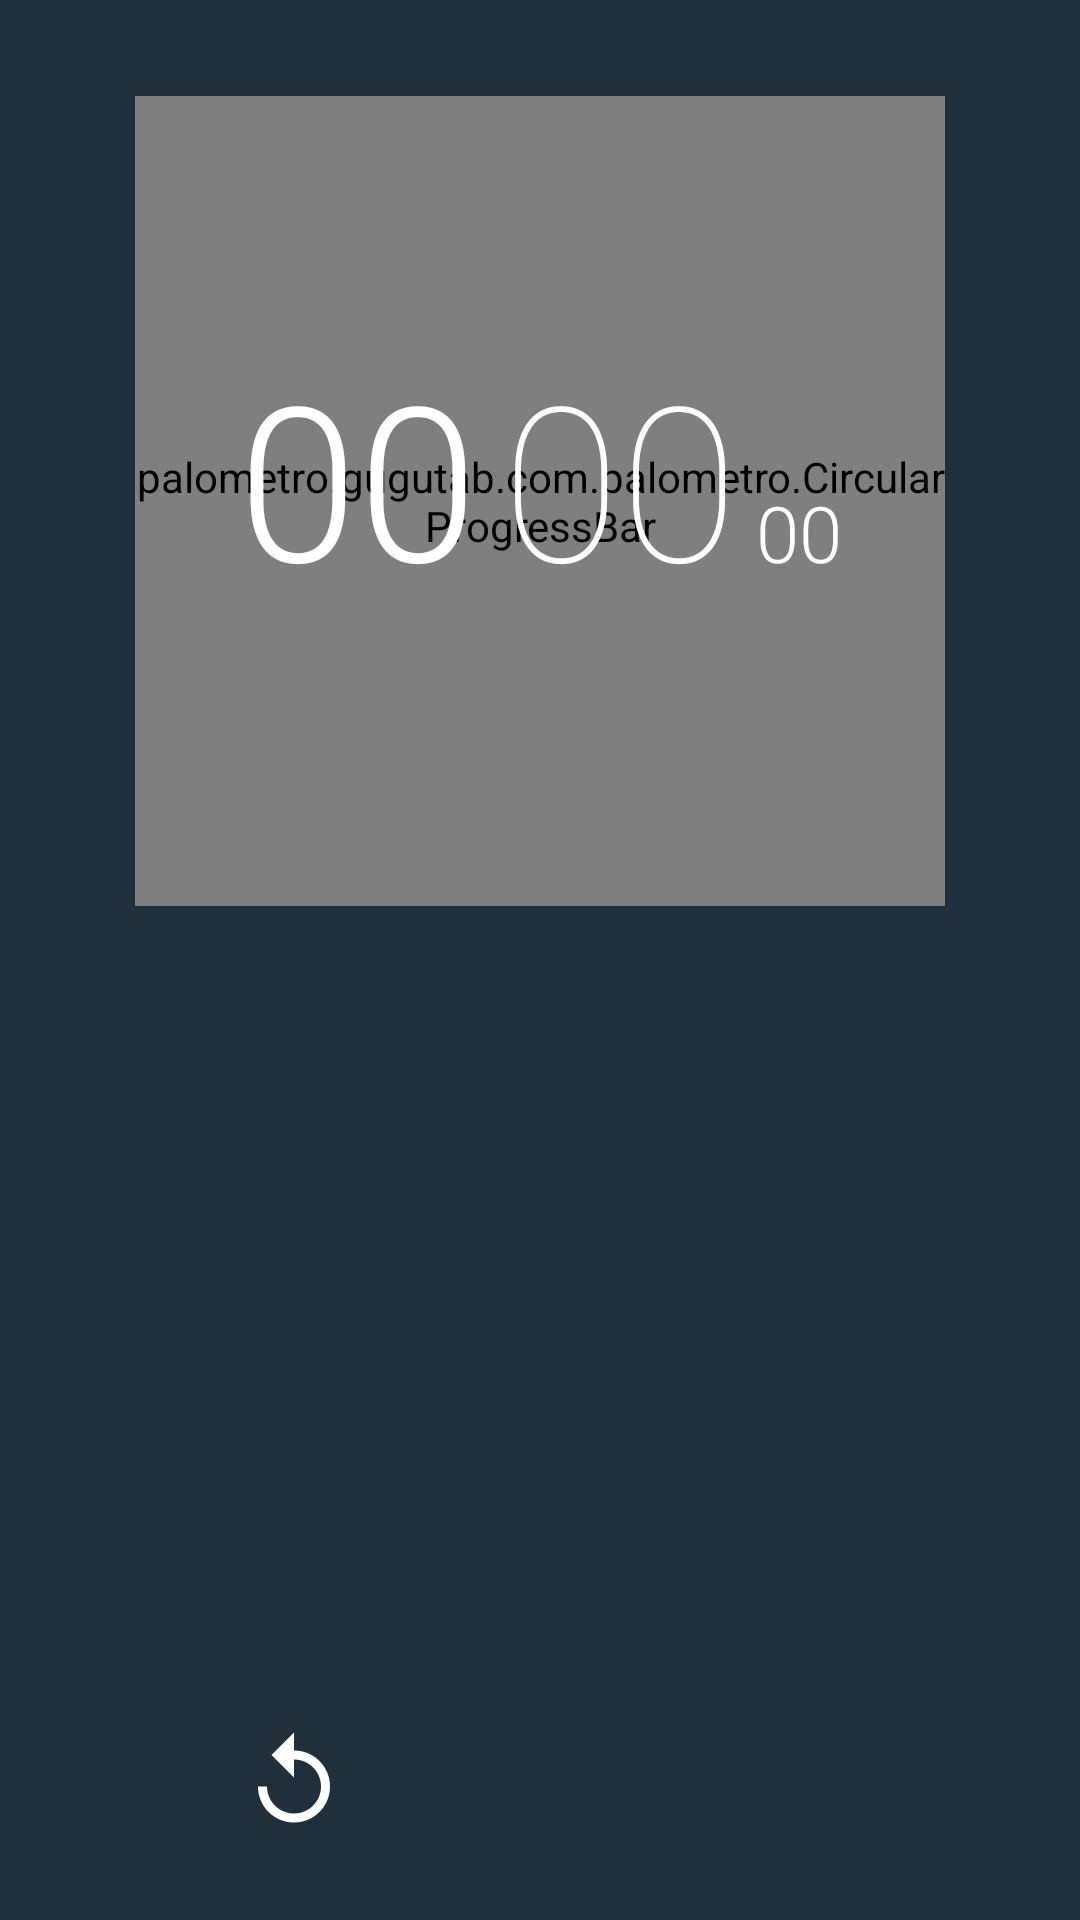

Icon bounding boxes for this 1080 × 1920 phone screenshot, format [x1=x1, y1=y1, x2=x2, y2=y2]:
replay: [x1=258, y1=1732, x2=330, y2=1823]
